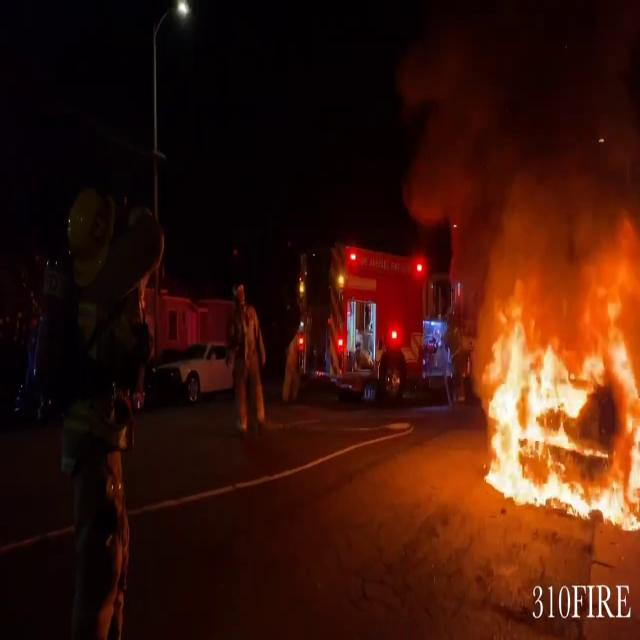Fire: (475, 283, 640, 526)
Smoke: (389, 1, 640, 314)
